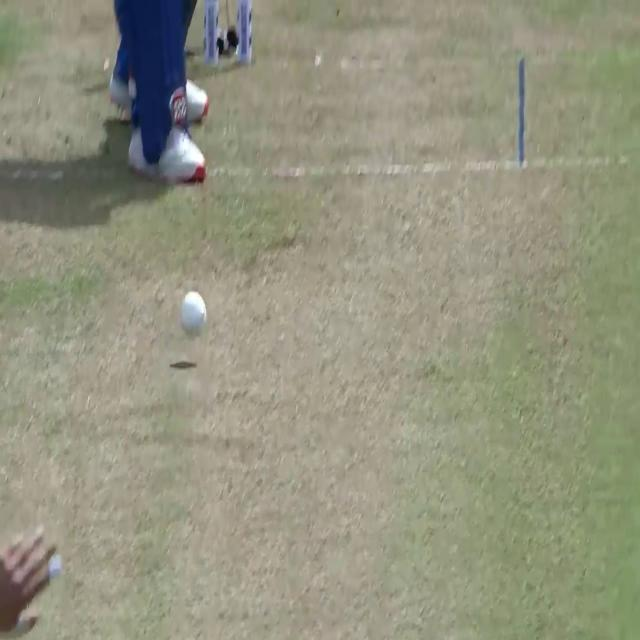ball: (179, 290, 207, 338)
